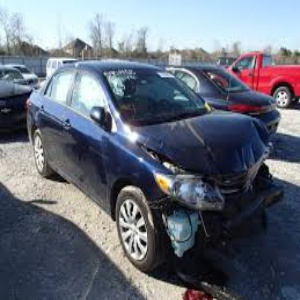bonnet: (157, 115, 264, 172)
bumper: (167, 209, 283, 273)
